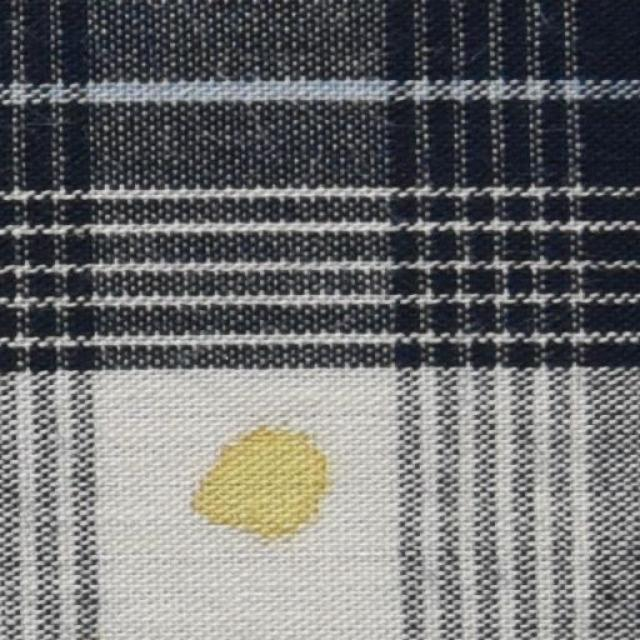Stain: (190, 423, 337, 548)
